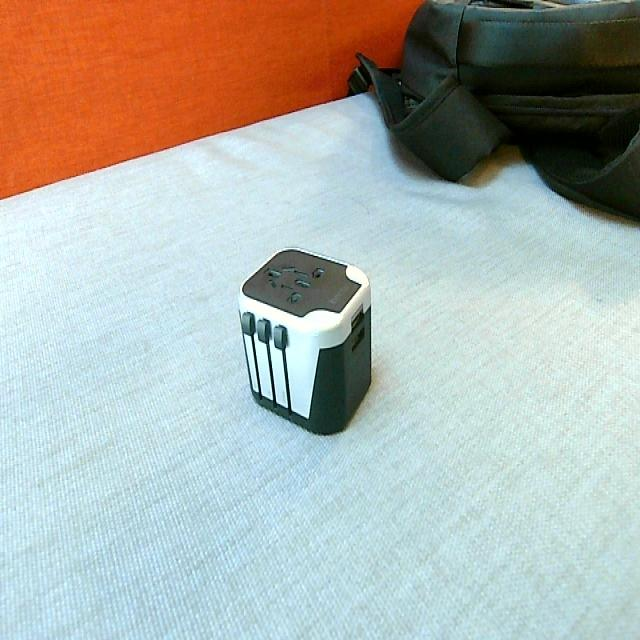adapter: (237, 245, 372, 435)
